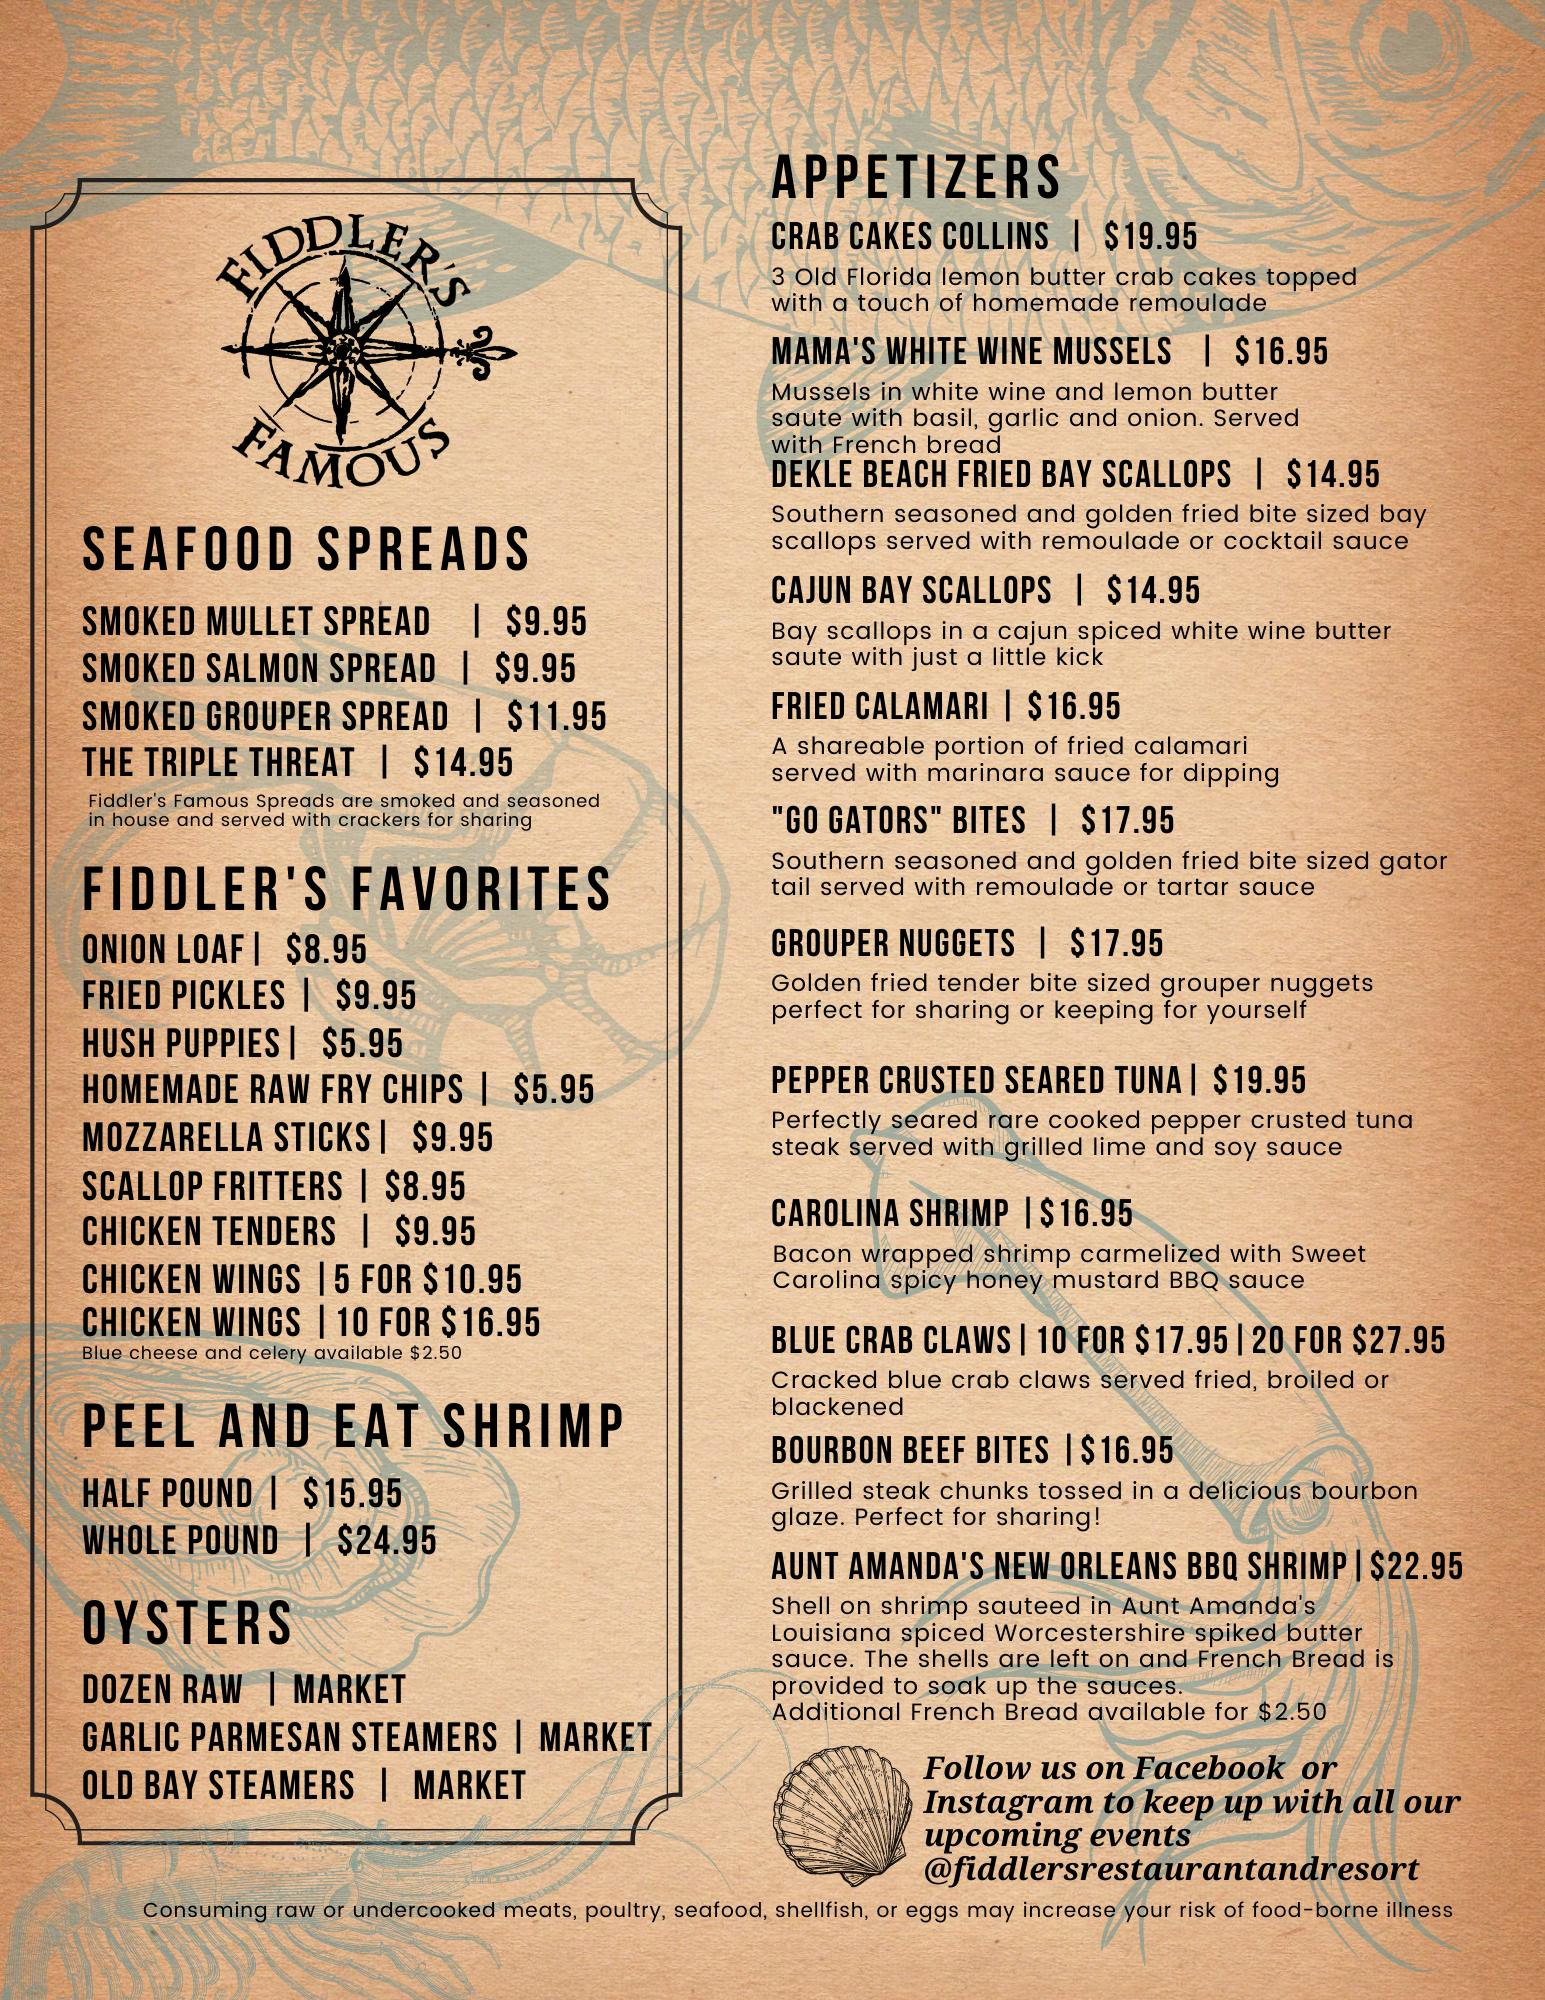Menu-Items: (58, 1583, 654, 1839), (751, 1536, 1483, 1739), (71, 1379, 644, 1572), (761, 793, 1467, 912), (760, 1049, 1420, 1174), (743, 553, 1422, 673), (750, 323, 1352, 457), (751, 908, 1381, 1035), (758, 1424, 1431, 1539), (735, 448, 1436, 558), (761, 1314, 1461, 1423), (753, 1187, 1375, 1301), (760, 211, 1375, 316), (760, 676, 1297, 792), (67, 584, 617, 646), (68, 1062, 620, 1118), (71, 691, 615, 745), (65, 647, 607, 689), (68, 741, 562, 787), (63, 1113, 506, 1163), (76, 1299, 552, 1345), (65, 1204, 493, 1252), (73, 1254, 531, 1299), (68, 1161, 485, 1210), (62, 967, 428, 1019), (70, 921, 406, 973), (62, 1020, 415, 1062)
